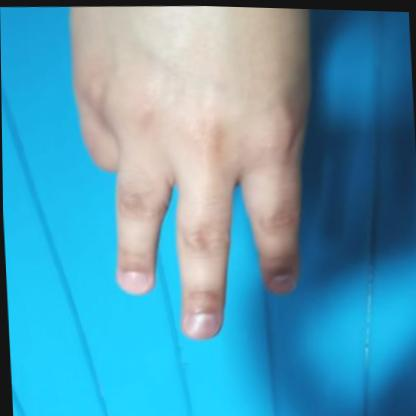M: (43, 1, 355, 353)
